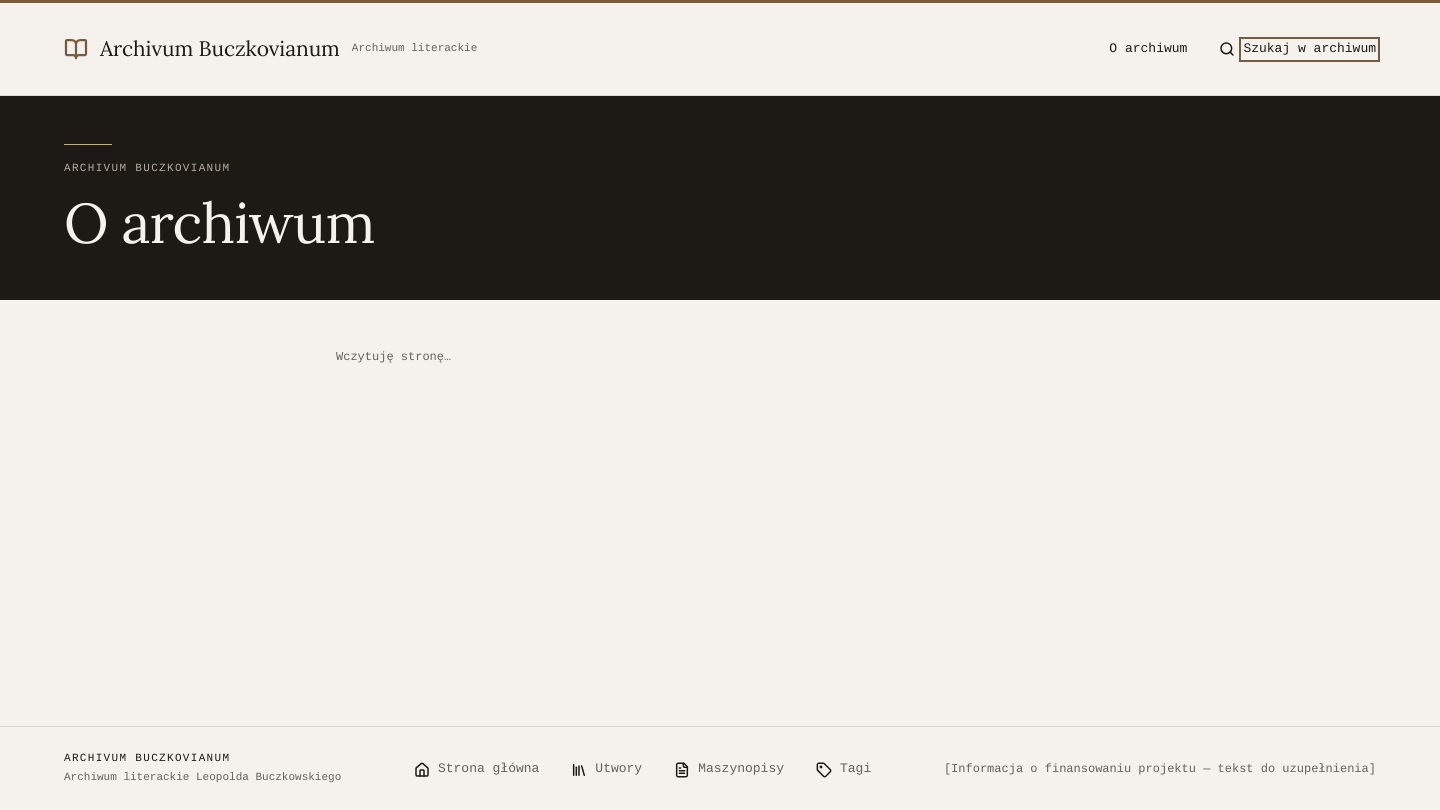
Test: SearchCombobox › US-RA-14 AC1: Enter without a chosen suggestion still searches
Type "czarny" into the dropdown labelled "Szukaj w archiwum". click: (1310, 49)
box: [1243,41,1376,58]
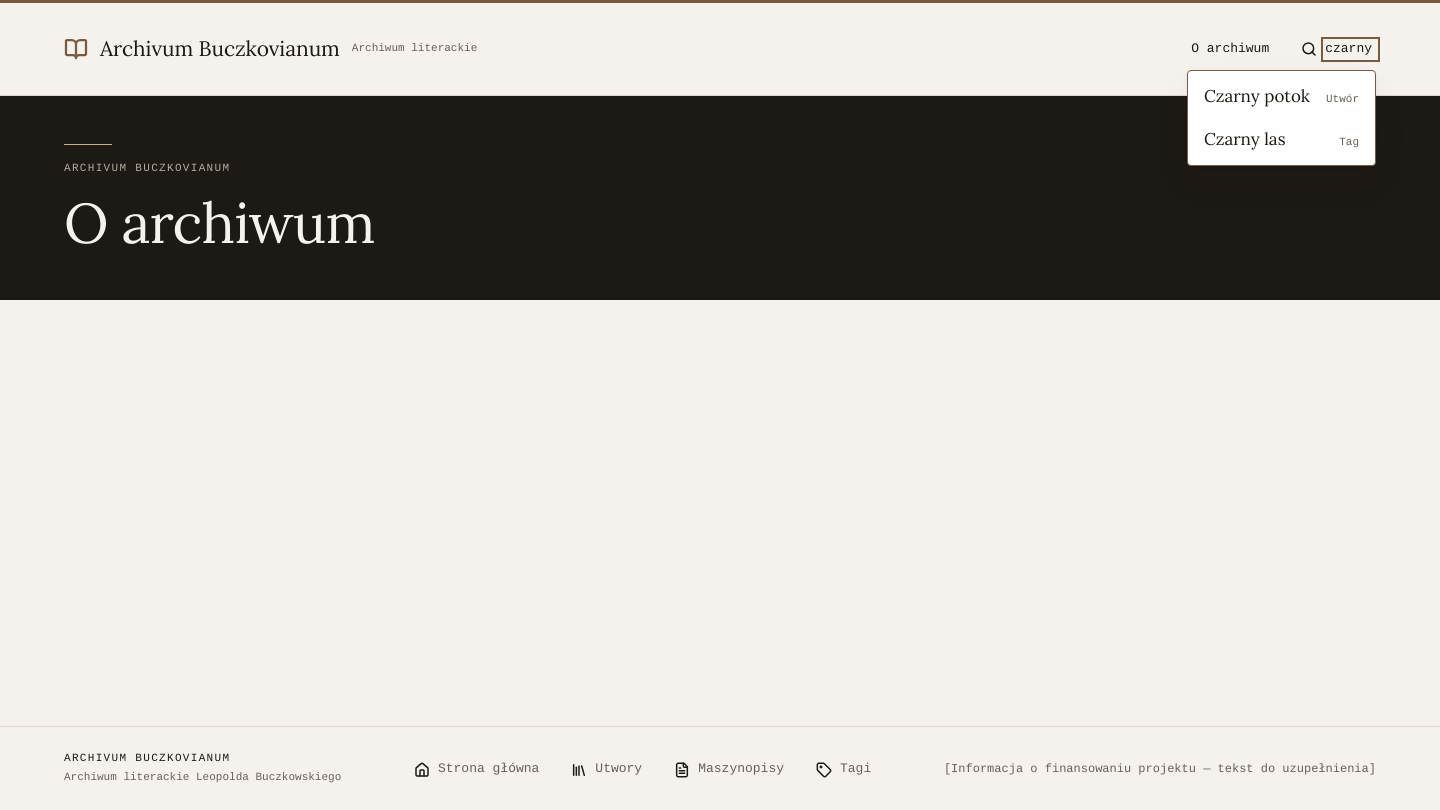
Press Enter in the dropdown named "Szukaj w archiwum", box [1325,41,1376,58]
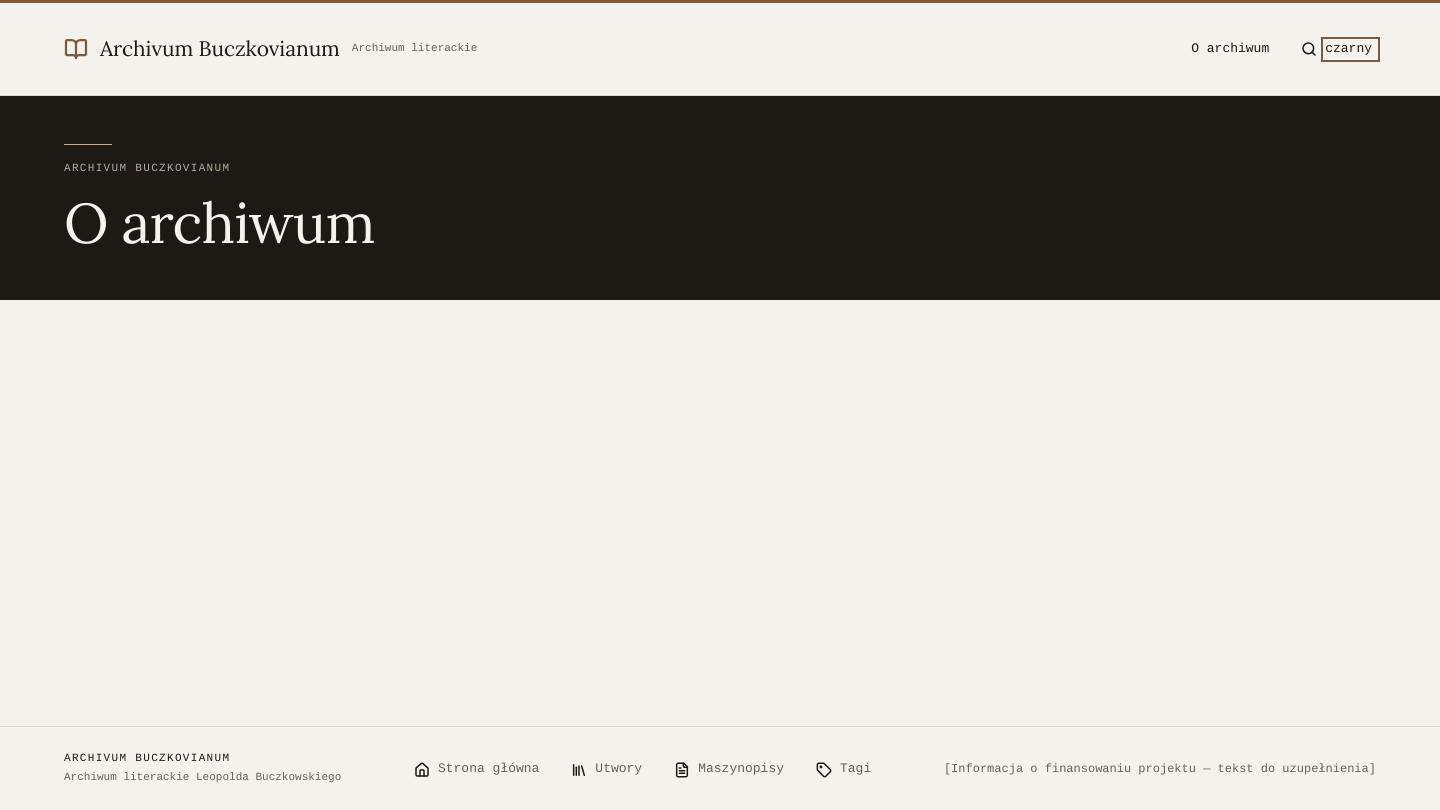
Submit the form, box [1301,41,1376,58]
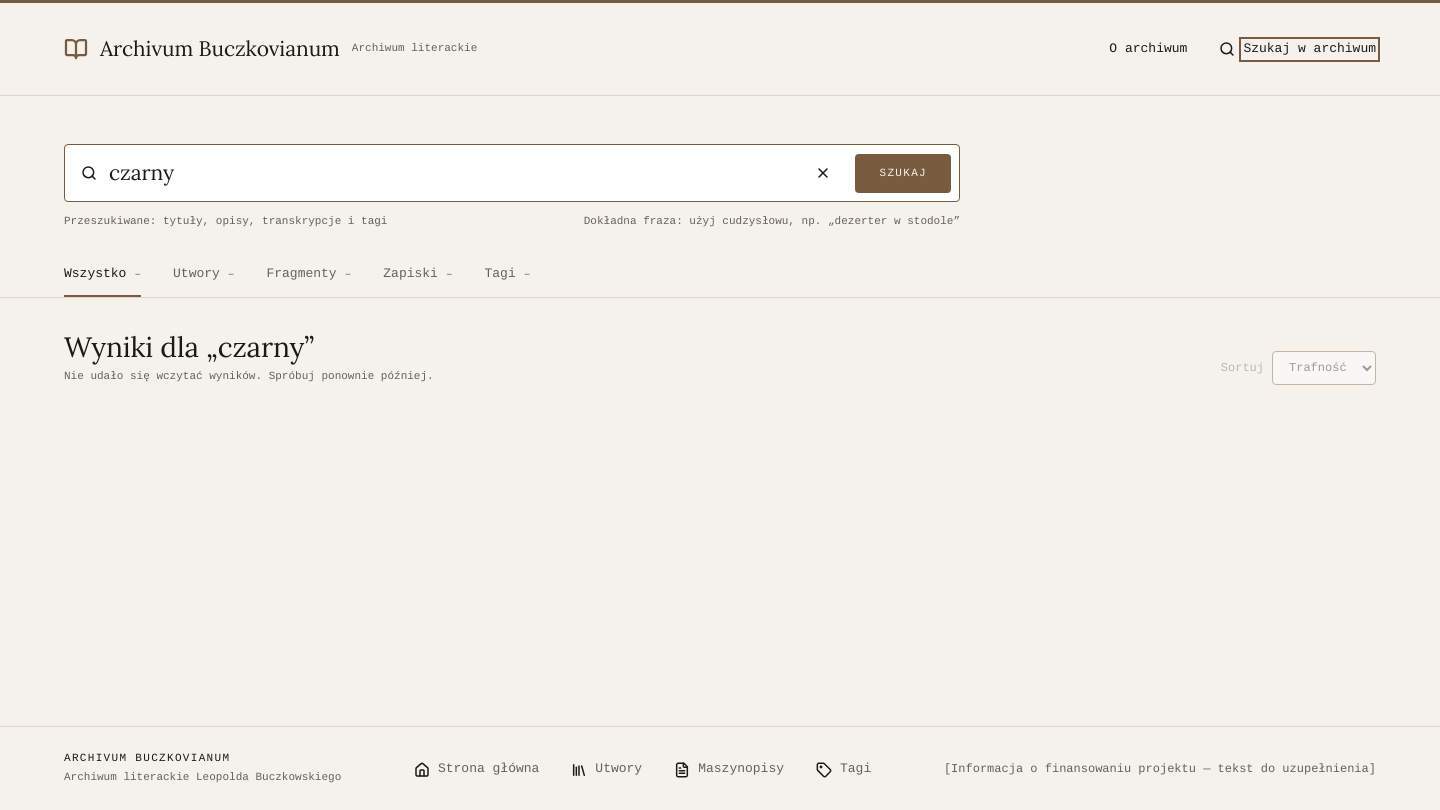
Check: the dropdown named "Szukaj w archiwum" holds "czarny", box [109,159,792,188]
